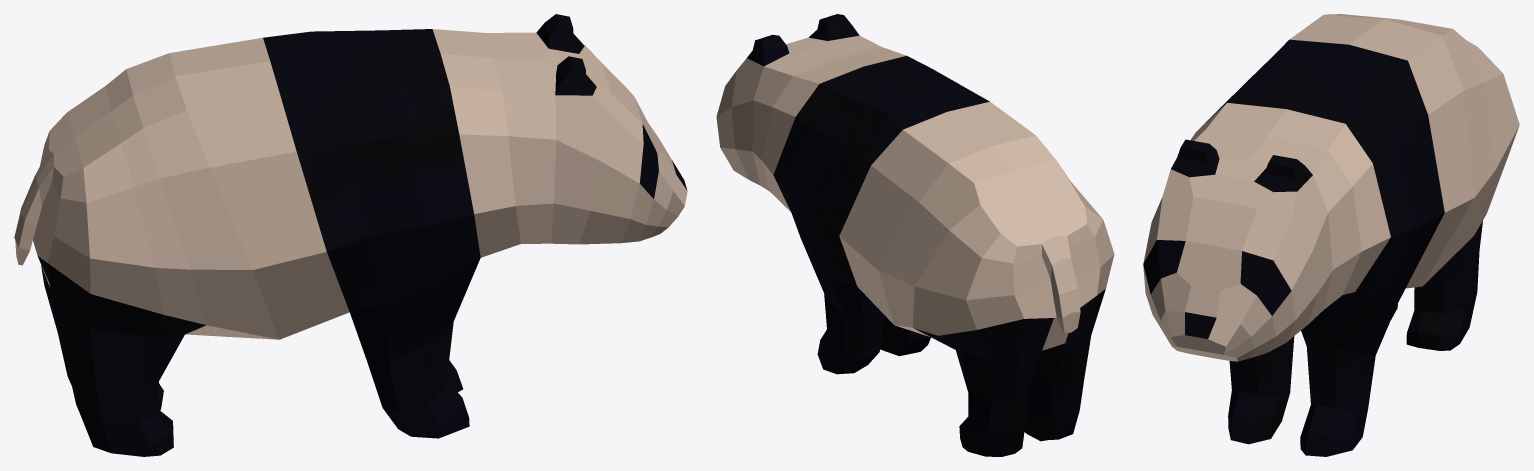
Rendered from panda.obj.
3 renders of one model, left to right at view 1: azimuth 30°, elevation 25°; view 2: azimuth 150°, elevation 25°; view 3: azimuth 270°, elevation 25°, orthographic. The views are drawn at different scales.
Visible parts, largest first — view 1: panda; view 2: panda; view 3: panda.
Part boxes in pixels (box(x1,y1,x2,y2)): panda: box(14, 14, 687, 456); panda: box(716, 14, 1114, 456); panda: box(1143, 14, 1519, 456).
Size of the model in its own units: 2.99 by 1.9 by 1.88.
2 materials, 2 textured.
